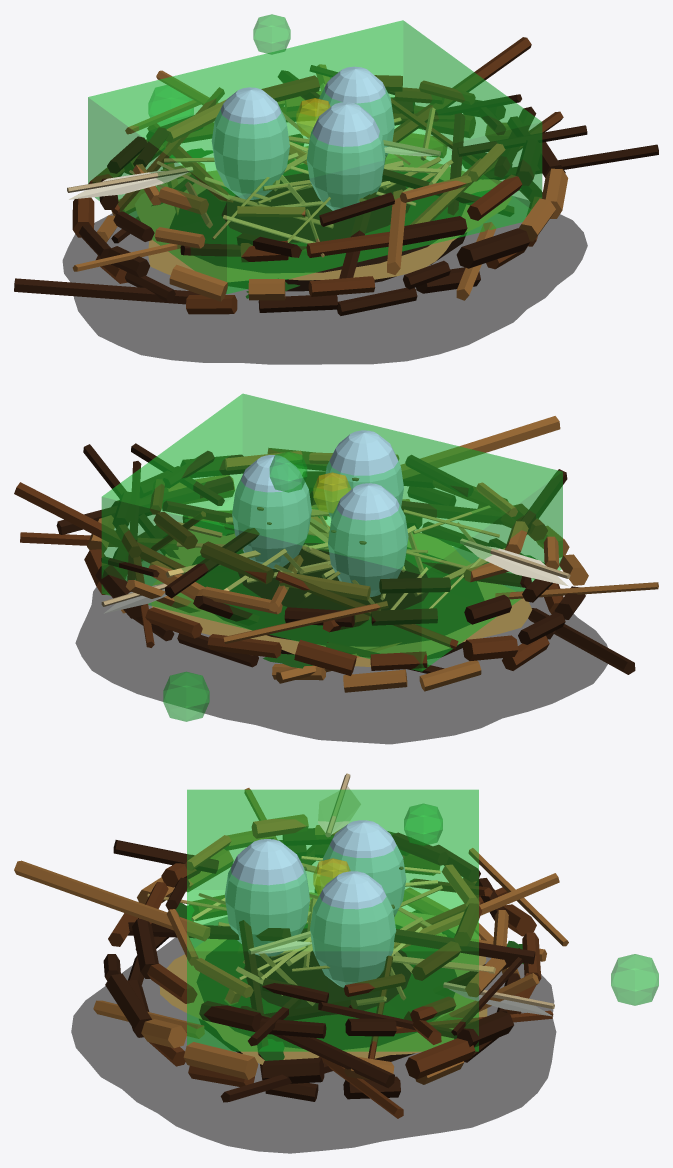
The model's file is bird_nest_with_eggs.obj.
3 renders of one model, top to bottom at view 1: azimuth 30°, elevation 25°; view 2: azimuth 150°, elevation 25°; view 3: azimuth 270°, elevation 25°, orthographic. The views are drawn at different scales.
Parts seen in each view (by area): view 1: Guide_Scent_Source_Nest_Area_delete_or_hide, Soft_shadow_under_nest, Concave_inner_nest_dark_cup_shadow, Egg_front_left, Egg_back_center, Soft_dry_grass_inner_lining, Egg_front_right, Loose_cross_twig_19, Loose_cross_twig_25, Woven_outer_twig_ring_2_segment_04, Loose_cross_twig_06, Woven_outer_twig_ring_3_segment_05 (+54 smaller); view 2: Guide_Scent_Source_Nest_Area_delete_or_hide, Soft_shadow_under_nest, Concave_inner_nest_dark_cup_shadow, Egg_front_left, Egg_front_right, Soft_dry_grass_inner_lining, Egg_back_center, Loose_cross_twig_10, Loose_cross_twig_25, Guide_Dog_Sniff_Point, Loose_cross_twig_01, Loose_cross_twig_19 (+48 smaller); view 3: Guide_Scent_Source_Nest_Area_delete_or_hide, Soft_shadow_under_nest, Concave_inner_nest_dark_cup_shadow, Egg_front_right, Egg_back_center, Soft_dry_grass_inner_lining, Egg_front_left, Loose_cross_twig_10, Guide_Dog_Sniff_Point, Loose_cross_twig_01, Woven_outer_twig_ring_2_segment_02, Loose_cross_twig_20 (+50 smaller).
Part boxes in pixels (box(x1,y1,x2,y2)): Guide_Scent_Source_Nest_Area_delete_or_hide: box(88, 20, 542, 293); Soft_shadow_under_nest: box(62, 196, 587, 364); Concave_inner_nest_dark_cup_shadow: box(169, 164, 466, 291); Egg_front_left: box(211, 87, 289, 199); Egg_back_center: box(306, 102, 385, 210); Soft_dry_grass_inner_lining: box(135, 146, 511, 281); Egg_front_right: box(316, 66, 394, 156); Loose_cross_twig_19: box(14, 278, 200, 304); Loose_cross_twig_25: box(392, 37, 531, 142); Woven_outer_twig_ring_2_segment_04: box(456, 228, 529, 268); Loose_cross_twig_06: box(481, 144, 658, 179); Woven_outer_twig_ring_3_segment_05: box(306, 231, 389, 257); Guide_Scent_Source_Nest_Area_delete_or_hide: box(101, 393, 562, 671); Soft_shadow_under_nest: box(75, 547, 607, 744); Concave_inner_nest_dark_cup_shadow: box(192, 535, 484, 659); Egg_front_left: box(328, 483, 408, 596); Egg_front_right: box(232, 455, 311, 568); Soft_dry_grass_inner_lining: box(151, 530, 532, 666); Egg_back_center: box(324, 430, 403, 518); Loose_cross_twig_10: box(400, 416, 560, 478); Loose_cross_twig_25: box(14, 482, 185, 569); Guide_Dog_Sniff_Point: box(163, 671, 209, 721); Loose_cross_twig_01: box(56, 476, 233, 534); Loose_cross_twig_19: box(528, 608, 635, 674); Guide_Scent_Source_Nest_Area_delete_or_hide: box(187, 789, 478, 1051); Soft_shadow_under_nest: box(71, 917, 556, 1153); Concave_inner_nest_dark_cup_shadow: box(196, 924, 456, 1061); Egg_front_right: box(310, 871, 395, 987); Egg_back_center: box(225, 839, 309, 956); Soft_dry_grass_inner_lining: box(159, 892, 487, 1064); Egg_front_left: box(320, 820, 406, 916); Loose_cross_twig_10: box(14, 860, 210, 941); Guide_Dog_Sniff_Point: box(611, 954, 658, 1005); Loose_cross_twig_01: box(241, 1006, 394, 1088); Woven_outer_twig_ring_2_segment_02: box(183, 1042, 258, 1079); Loose_cross_twig_20: box(394, 929, 535, 964).
Size of what is drawn, in the model's own units: 1.43 by 0.499 by 1.28.
